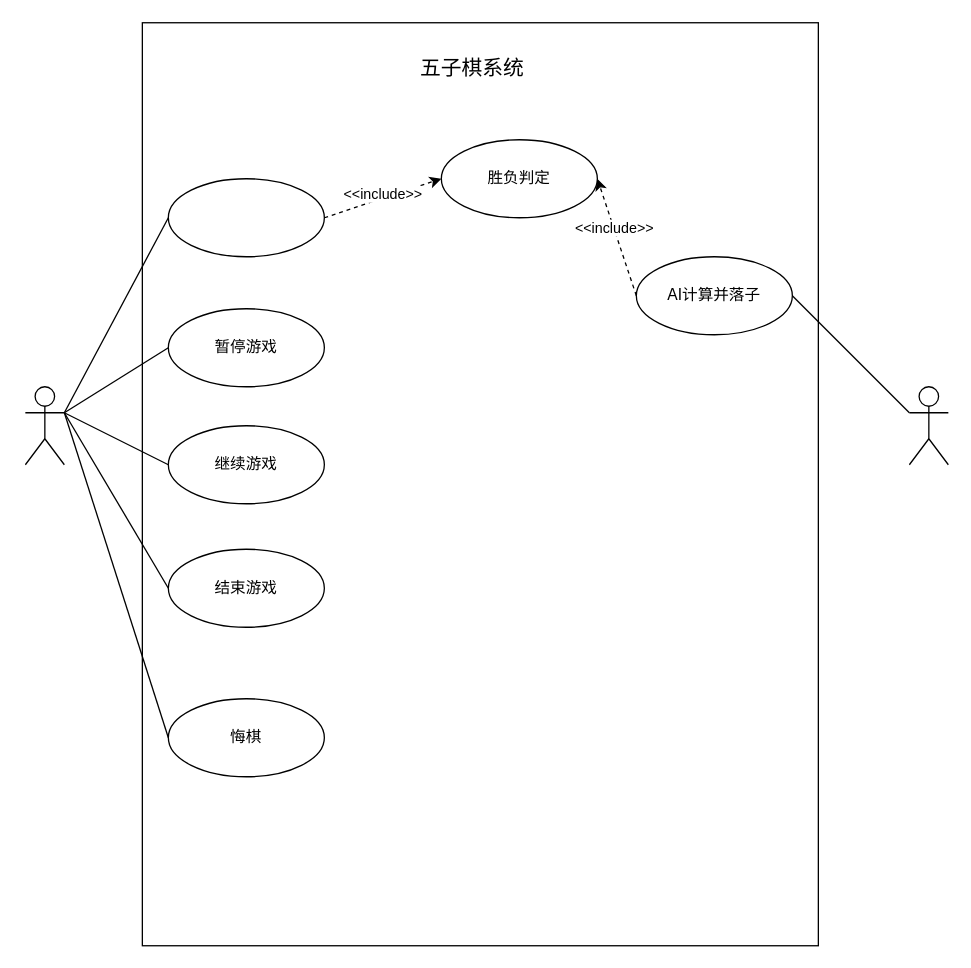
Image size: 971x968. Some labels were removed from this diagram. Each missing label, with the centre of its shape:
AI: the point at 928,425
Player: the point at 44,425
玩家落子: the point at 245,217
